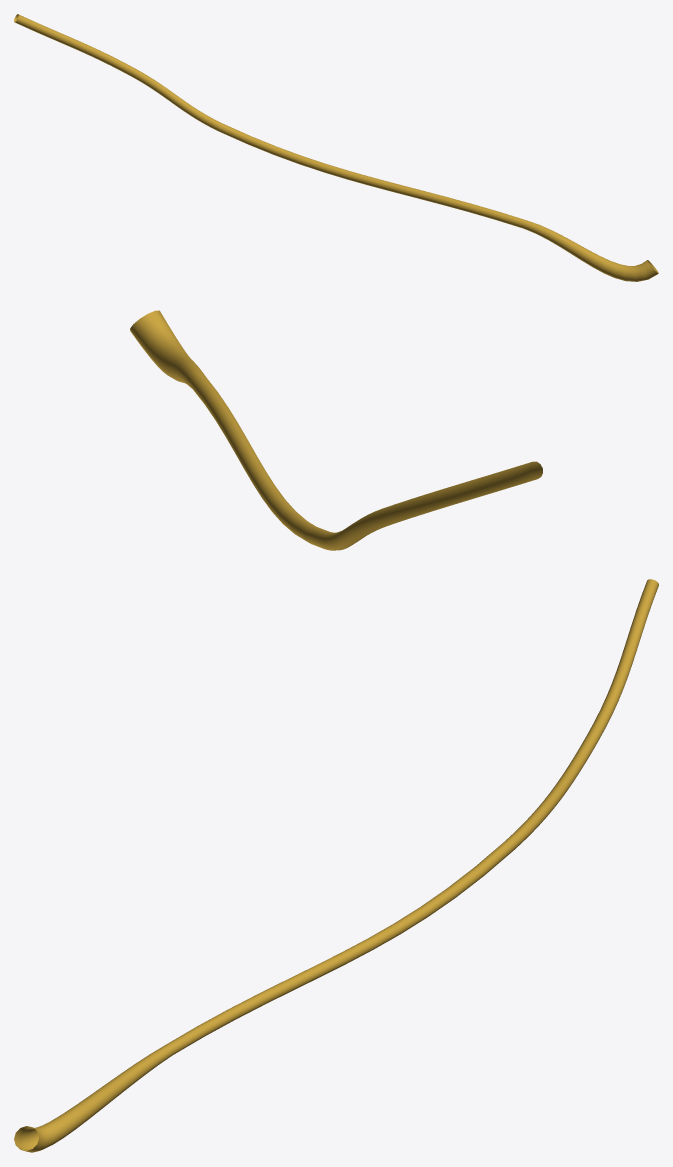
3 views of the same model, one above another, from view 1: azimuth 30°, elevation 25°; view 2: azimuth 150°, elevation 25°; view 3: azimuth 270°, elevation 25° (orthographic). The views are drawn at different scales.
Visible parts, largest first — view 1: 右侧腋神经; view 2: 右侧腋神经; view 3: 右侧腋神经.
Boxes of the visible parts, x1=… form: 右侧腋神经: x1=14, y1=14, x2=658, y2=281; 右侧腋神经: x1=130, y1=310, x2=542, y2=550; 右侧腋神经: x1=14, y1=579, x2=658, y2=1152.
Bounding box in the file's own units: 0.0791 × 0.0369 × 0.0736.
